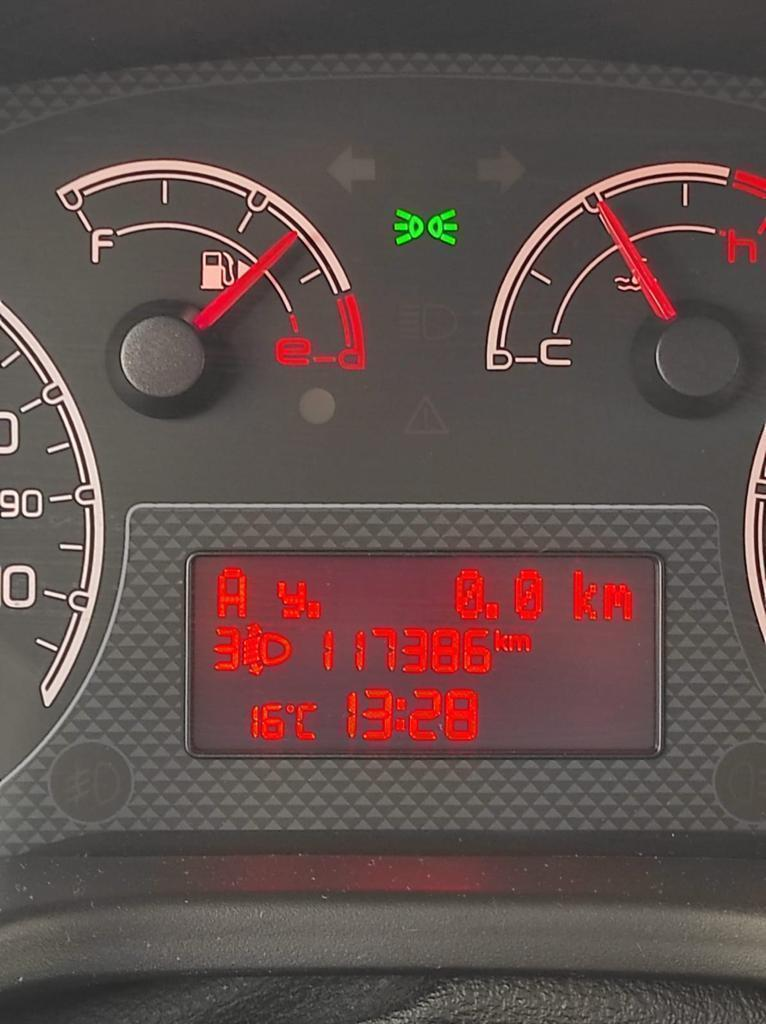,: (484, 599, 503, 623), (307, 598, 322, 621)
0: (513, 568, 544, 622), (453, 567, 484, 620)
1: (345, 688, 358, 739), (321, 627, 334, 673), (354, 629, 367, 672), (251, 703, 259, 739)
2: (408, 687, 442, 740)
3: (360, 687, 392, 741), (401, 627, 428, 673), (212, 625, 239, 671)
6: (463, 627, 491, 674), (261, 701, 284, 741)
7: (370, 625, 396, 673)
8: (444, 687, 479, 741), (430, 626, 460, 675)
X: (214, 566, 248, 618), (571, 567, 599, 622), (276, 578, 307, 619), (601, 581, 632, 622), (296, 701, 317, 740), (508, 632, 530, 654), (395, 694, 406, 733), (493, 627, 508, 654)
odometer: (181, 549, 665, 762)
